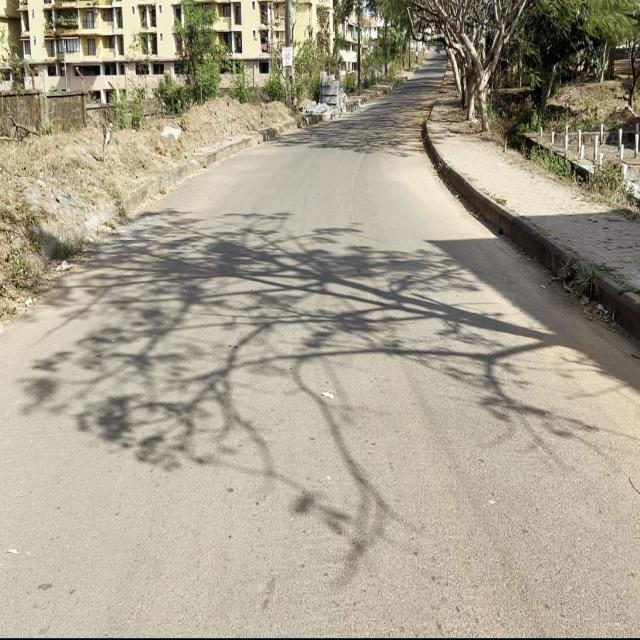Road: (0, 64, 640, 640)
